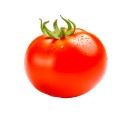tomato: (24, 26, 108, 97)
